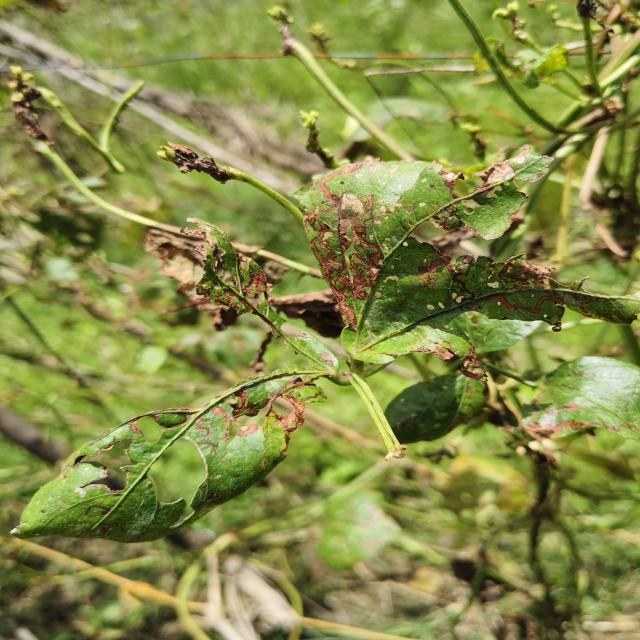leaf-moderate: (12, 332, 338, 542)
sitaw-aphid-low: (300, 150, 640, 337)
